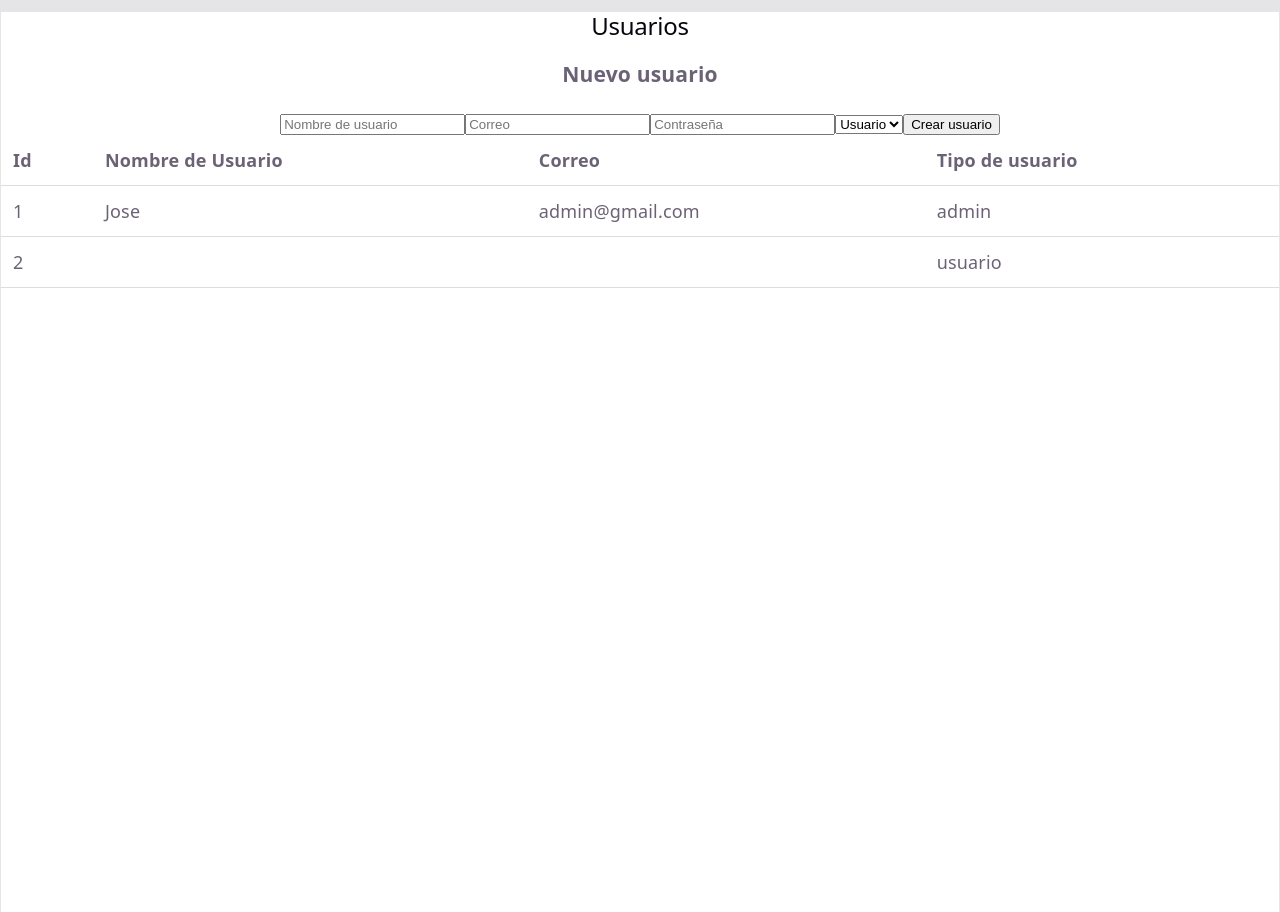
it: UsuariosAdmin Component › muestra un error si el formato del correo es inválido
The image size is (1280, 912).
Type "Nuevo" into the field with placeholder "Nombre de usuario" at (373, 124), box [280,114,465,134]
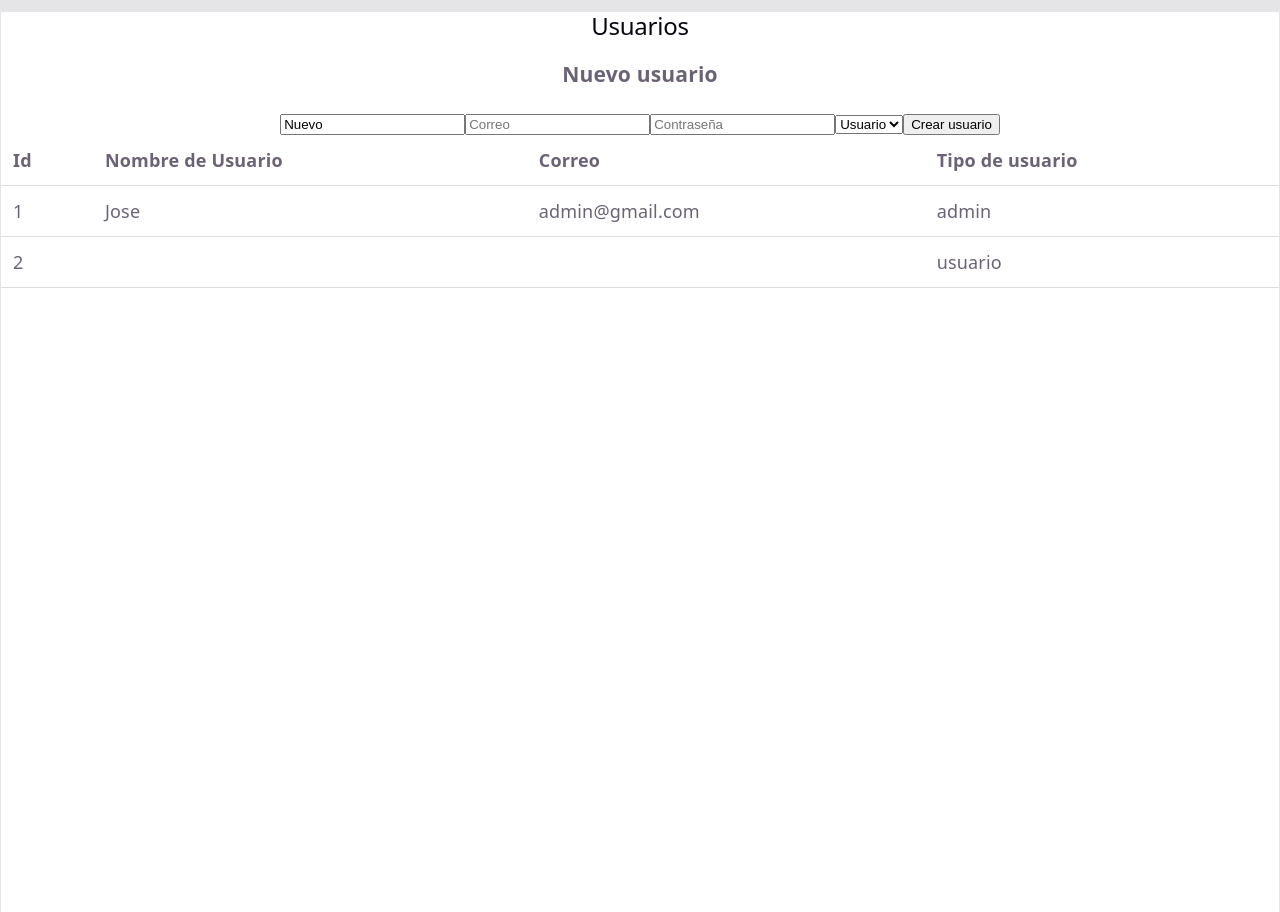
Type "correoinvalido.com" into the field with placeholder "Correo" at (558, 124), box [465,114,650,134]
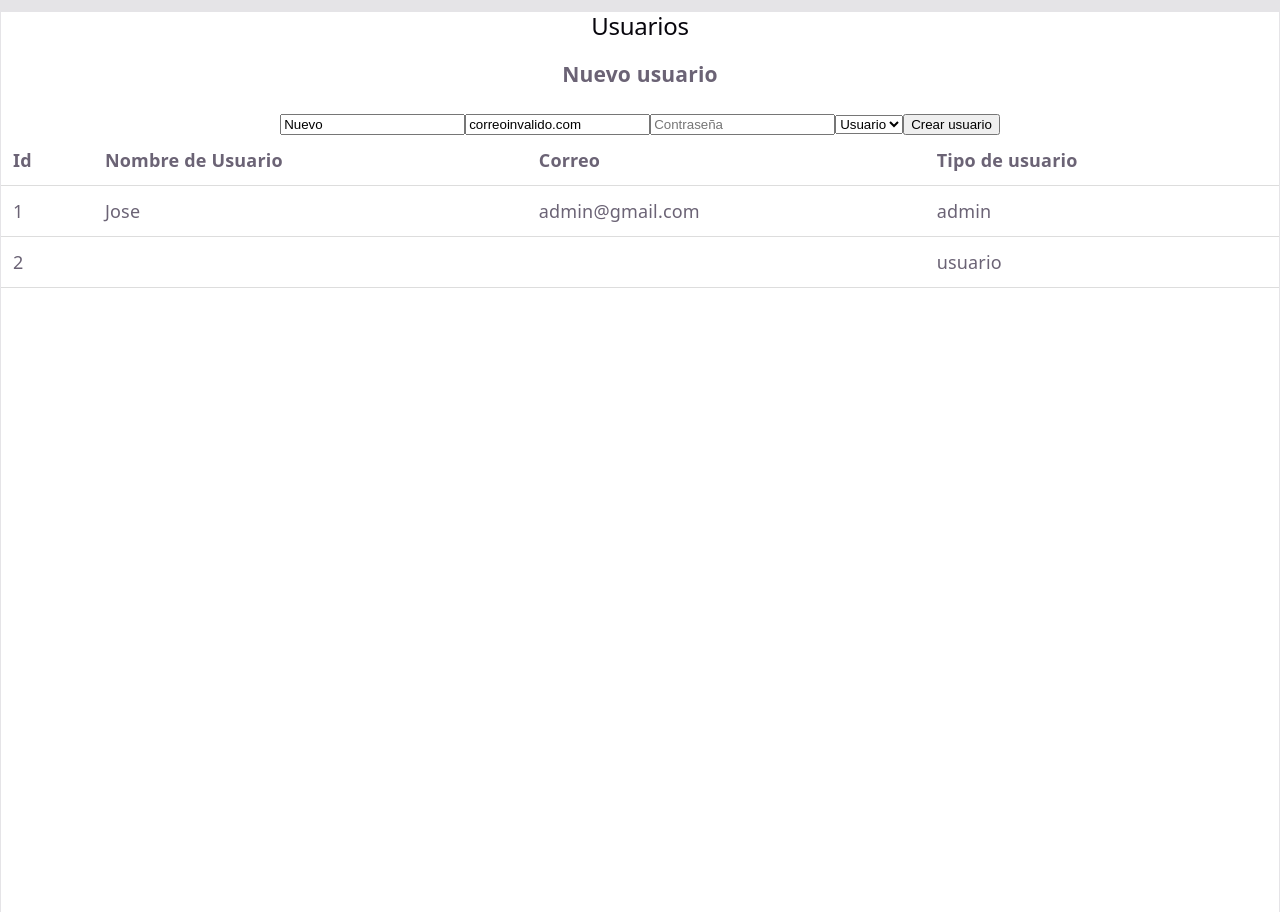
Type "123456" into the password field with placeholder "Contraseña" at (743, 124), box [650,114,835,134]
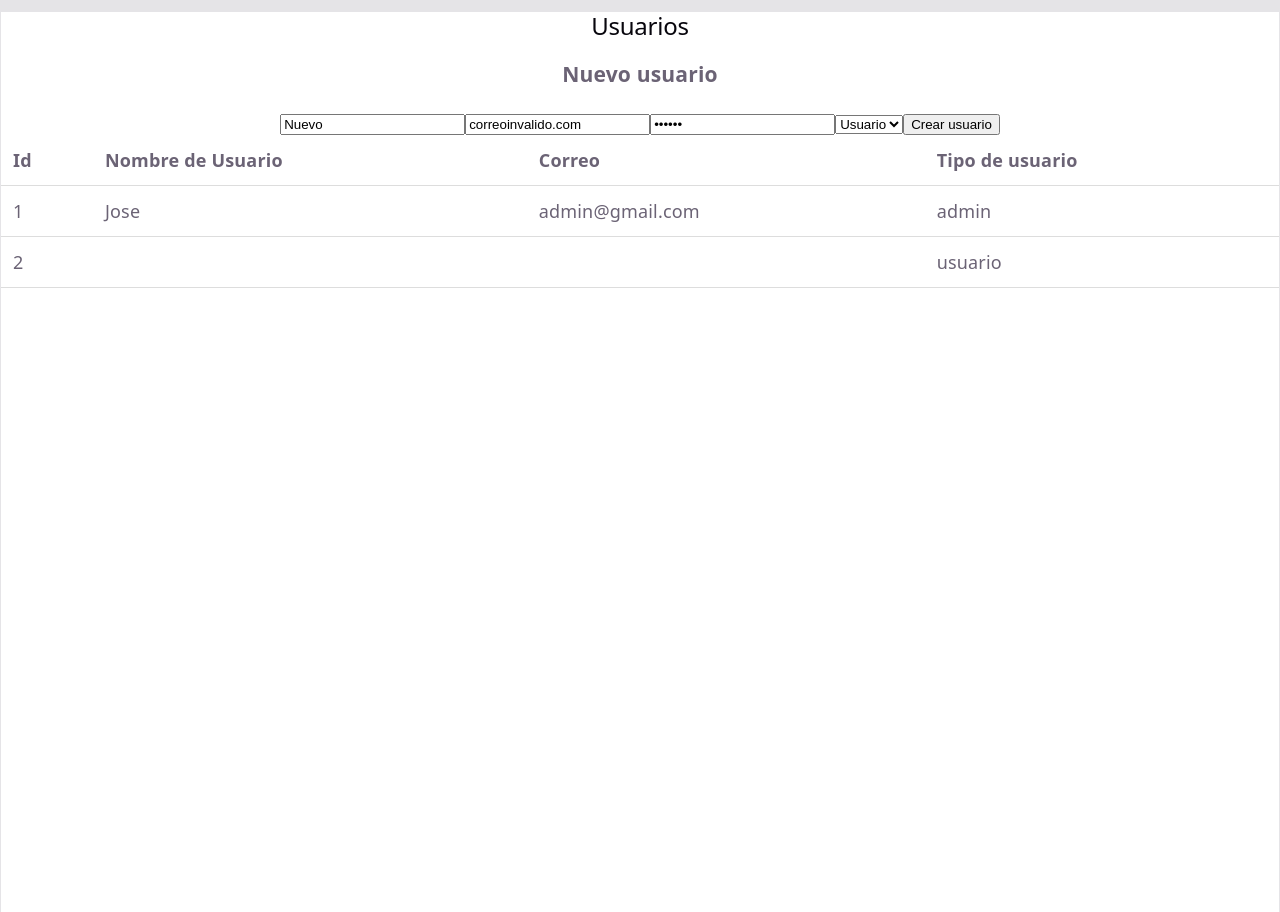
Click the button "Crear usuario" at (952, 124), box [903,114,1000,134]
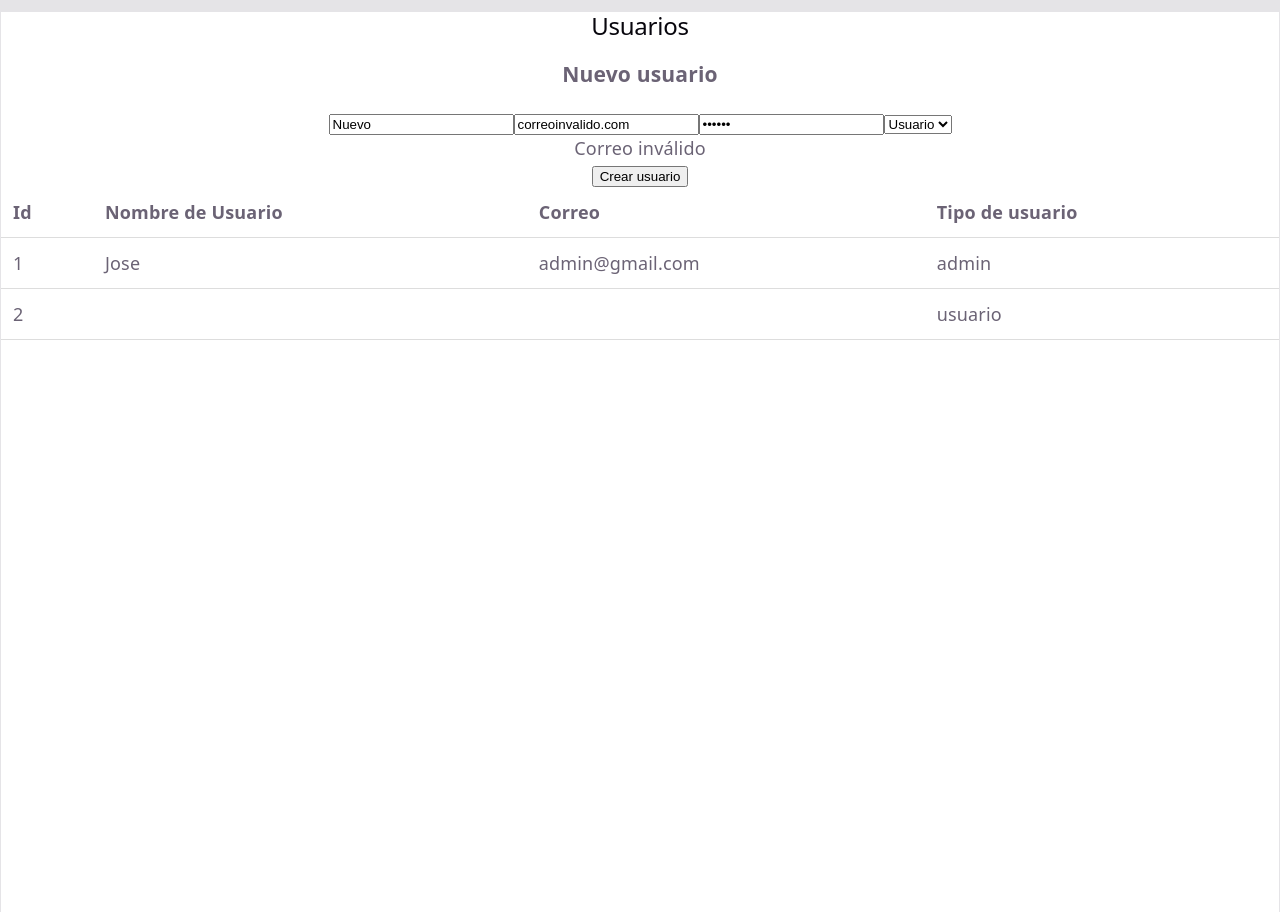
Result: the text "Correo inválido" is shown at [574,136,706,160]
